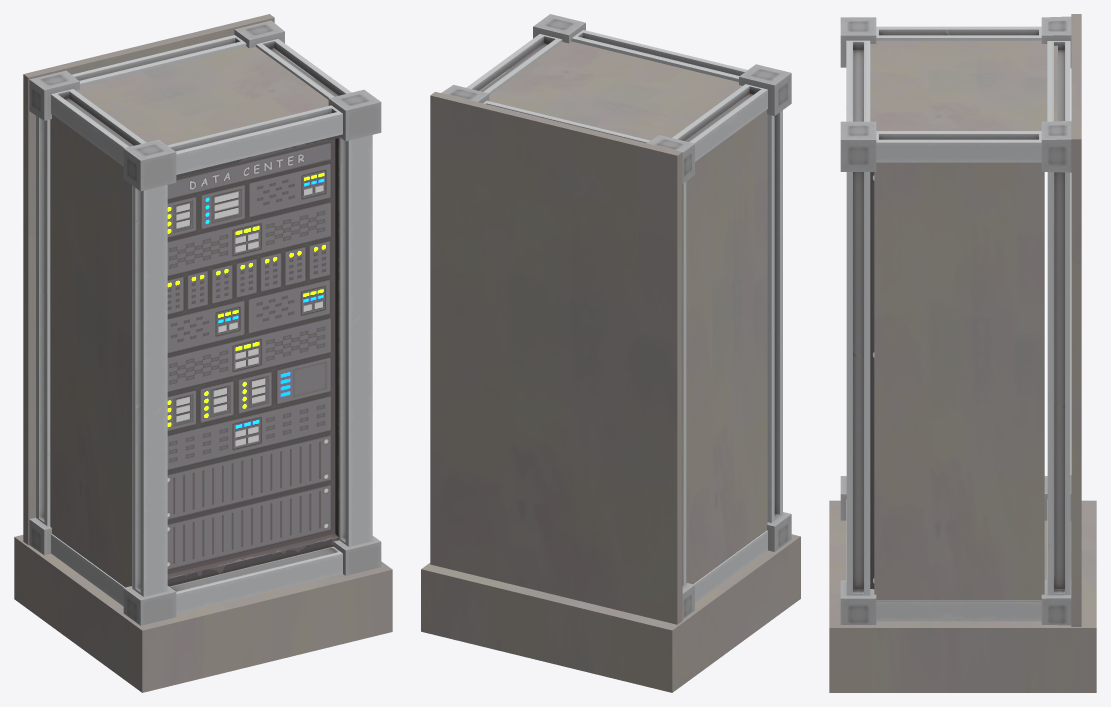
File: Pfb_Server__7.fbx
The picture shows the model from 3 angles, left to right: view 1: azimuth 30°, elevation 25°; view 2: azimuth 150°, elevation 25°; view 3: azimuth 270°, elevation 25°; orthographic projection. The views are drawn at different scales.
Visible parts, largest first — view 1: Mat_Tile_Color_07, OfficeServer01A 6, Mat_SteelFrame_01 7; view 2: Mat_Tile_Color_07, Mat_SteelFrame_01 7; view 3: Mat_Tile_Color_07, Mat_SteelFrame_01 7, OfficeServer01A 6.
Part boxes in pixels (<box>): Mat_Tile_Color_07: <box>14,14,392,692</box>; OfficeServer01A 6: <box>167,135,339,586</box>; Mat_SteelFrame_01 7: <box>29,20,381,625</box>; Mat_Tile_Color_07: <box>421,41,800,692</box>; Mat_SteelFrame_01 7: <box>441,14,791,619</box>; Mat_Tile_Color_07: <box>829,14,1096,692</box>; Mat_SteelFrame_01 7: <box>840,16,1071,625</box>; OfficeServer01A 6: <box>870,172,874,589</box>.
Bounding box in the file's own units: 1.23 × 2.49 × 1.09.
3 materials, 3 textured.
